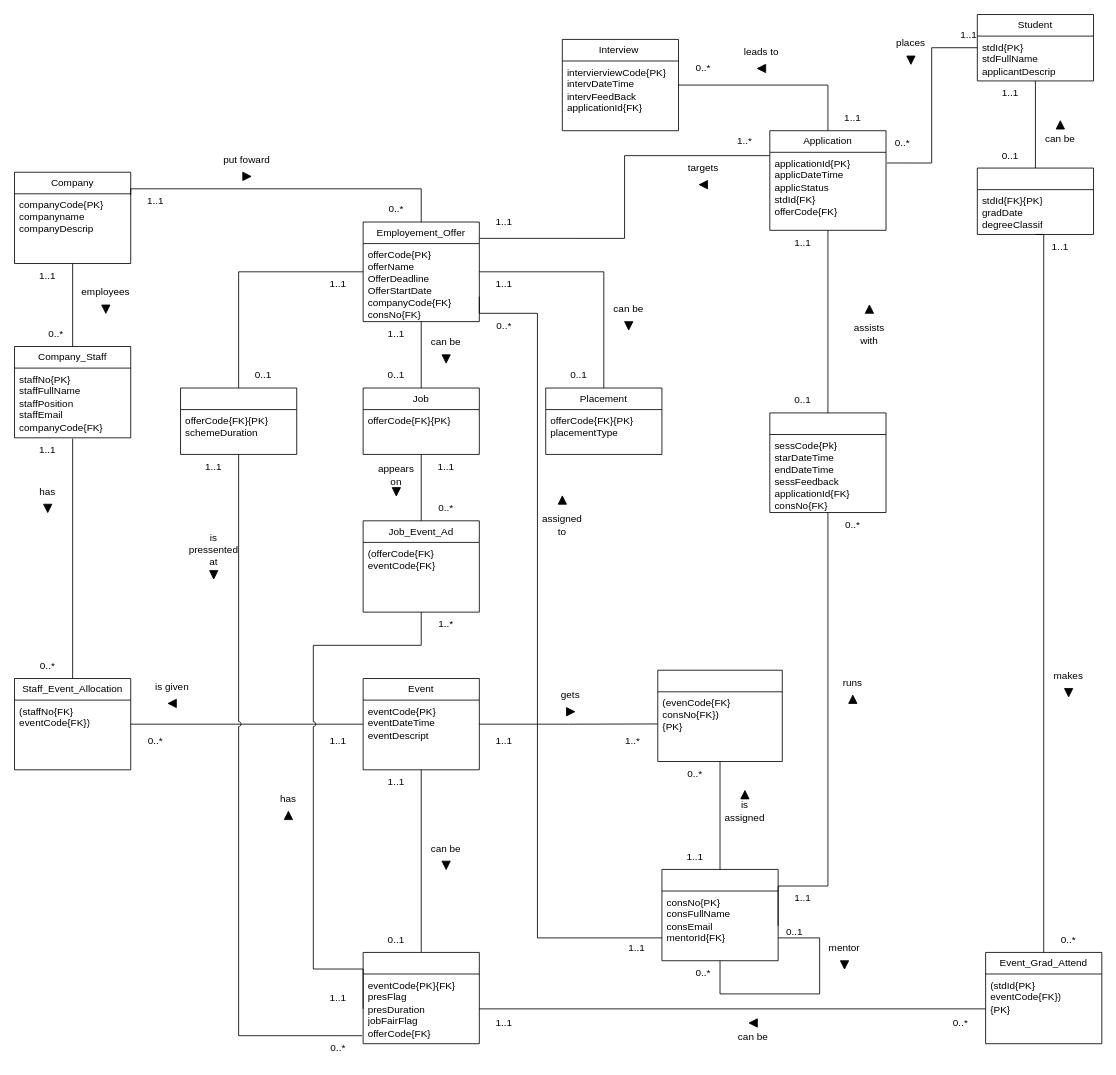
Some shapes in this 1116 by 1075 pixel diagram are drawn without their labels. The shapes that lost their labels are listed below. From the top down, each one's box as (x1, y1, x2, y2) in pixels, then its label:
(976, 167, 1094, 234): Graduate
(180, 387, 297, 454): Grad_Scheme
(769, 412, 886, 513): Support_Session
(657, 669, 782, 762): Event_Consultants_Cover
(661, 869, 778, 961): Career_consultant
(362, 952, 479, 1044): Event_Type
